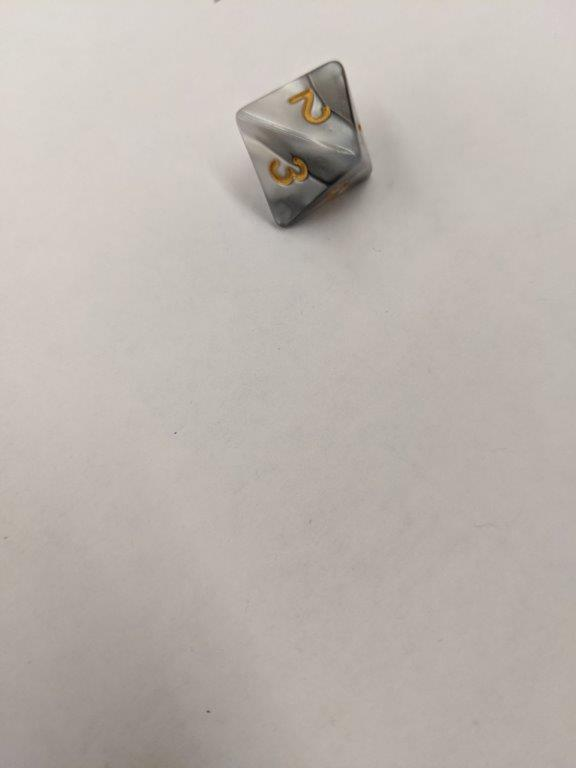d8-2: (233, 59, 375, 231)
